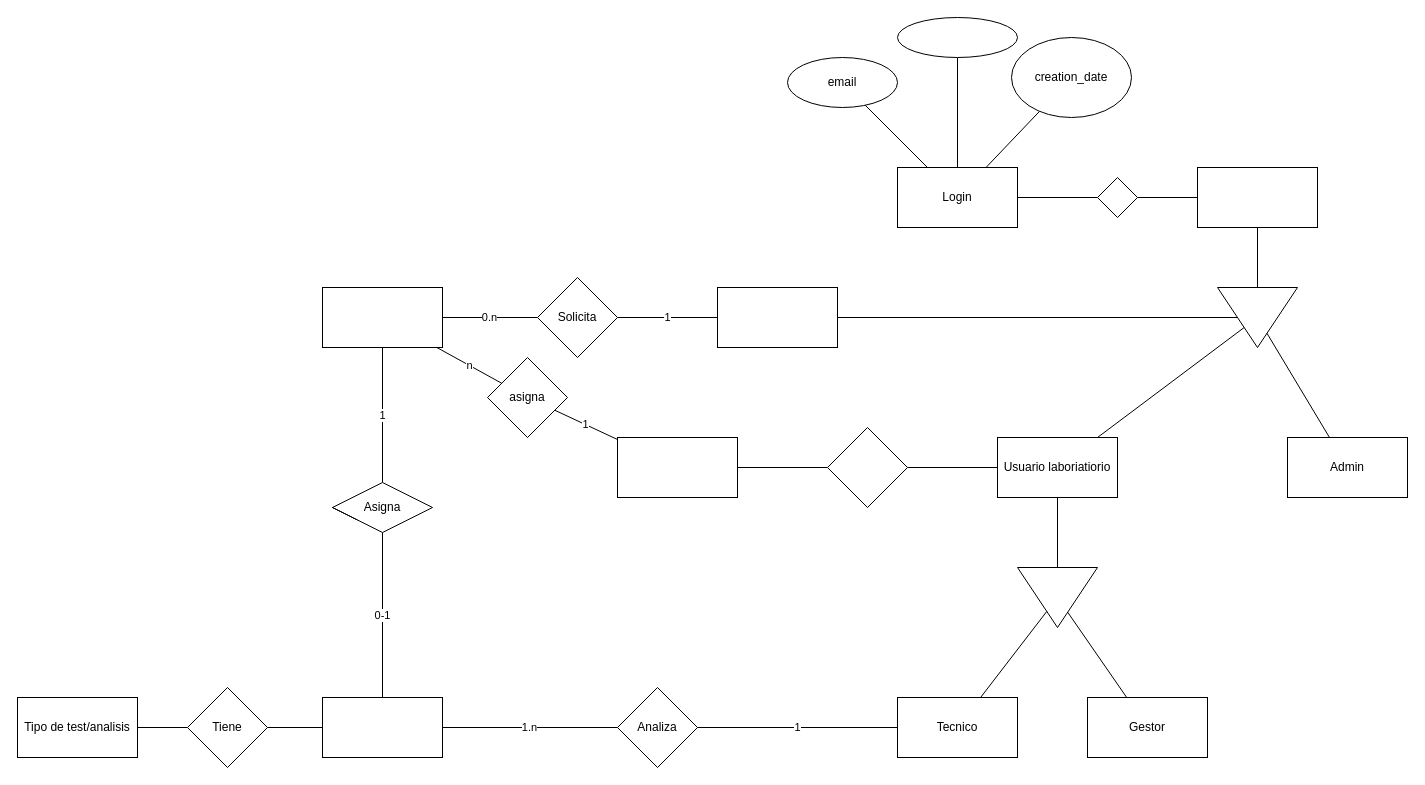
This 1425x785 diagram has some shape labels left out. The shapes that lost their labels are listed below. From the top down, each one's box as (x1, y1, x2, y2) in pixels, then its label:
(896, 16, 1018, 58): password
(1196, 166, 1318, 228): Usuario
(322, 286, 442, 348): Reserva
(716, 286, 838, 348): U. Regstrado
(616, 436, 738, 498): Laboratorio
(826, 426, 908, 508): Trabaja
(322, 696, 442, 758): Test/analisis
